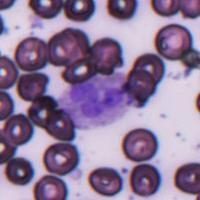N: (60, 76, 132, 127)
